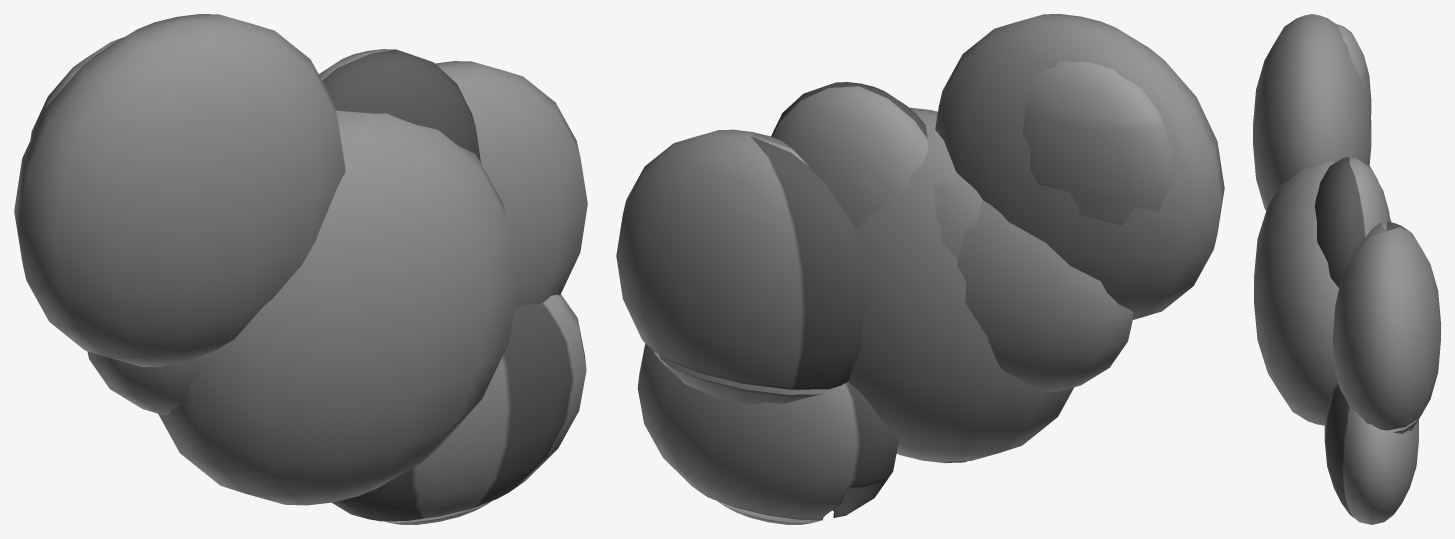
The picture shows the model from 3 angles, left to right: view 1: azimuth 30°, elevation 25°; view 2: azimuth 150°, elevation 25°; view 3: azimuth 270°, elevation 25°; orthographic projection. The views are drawn at different scales.
Bounding box in the file's own units: 0.6278 × 0.5813 × 0.252.
